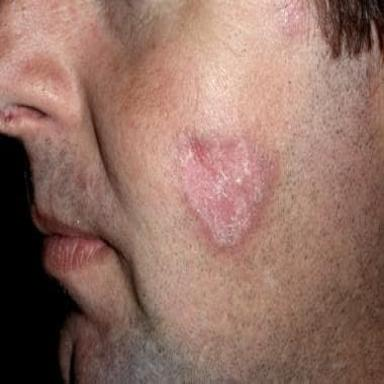Lupus-Erythematosus-Chronicus-Discoides: (177, 129, 280, 252)
